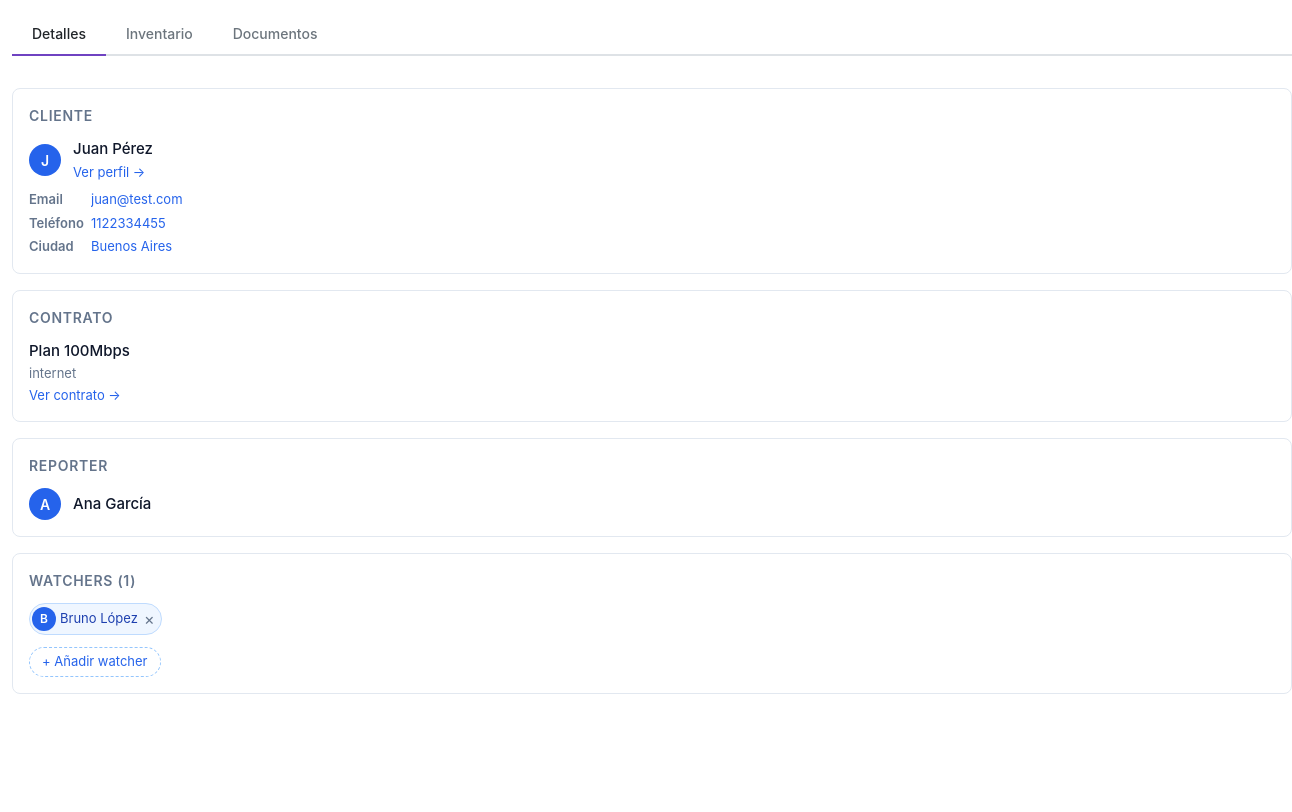
Test: CustomerSidebar › Documents tab shows ComingSoonPanel
Click the tab "Documentos" at (275, 34), box [213, 12, 338, 56]
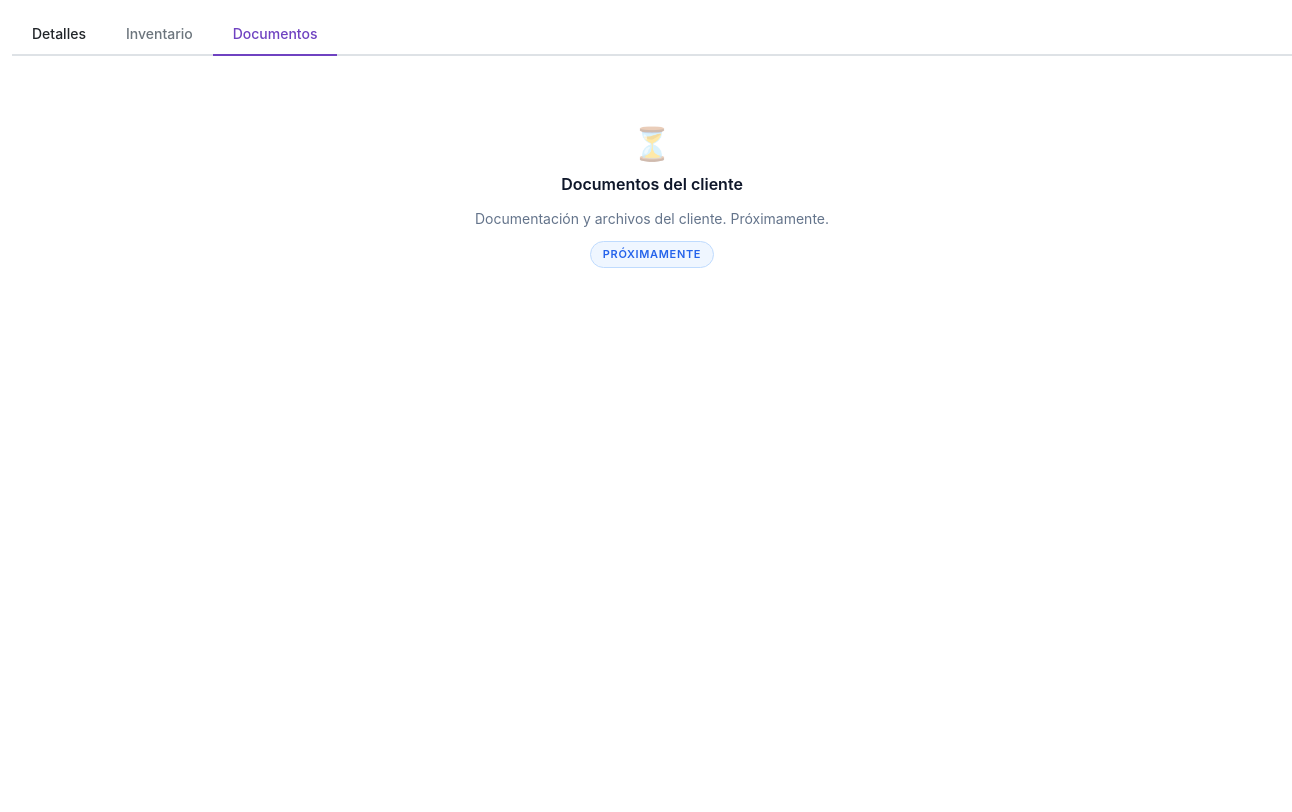
Expected: the heading "Documentos del cliente" is shown, [561, 172, 743, 196]
